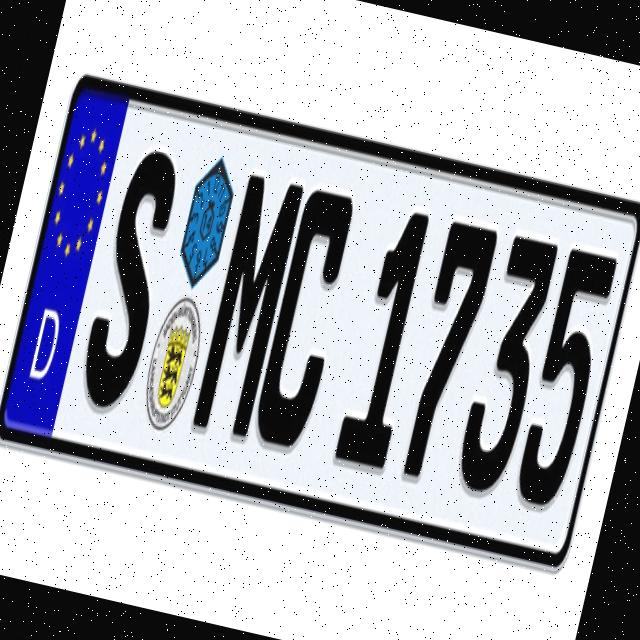Allemagne: (0, 68, 134, 436)
EU: (0, 70, 640, 562)
